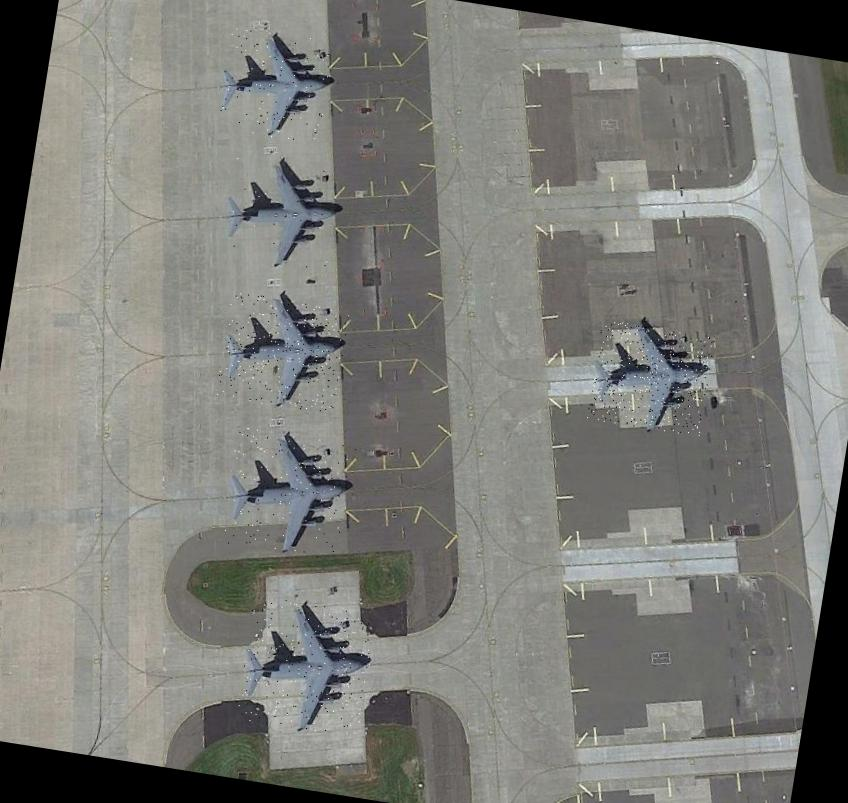A3: (234, 594, 377, 738), (219, 426, 356, 560), (215, 290, 350, 415), (586, 318, 714, 436), (220, 154, 348, 271), (212, 25, 335, 144)
